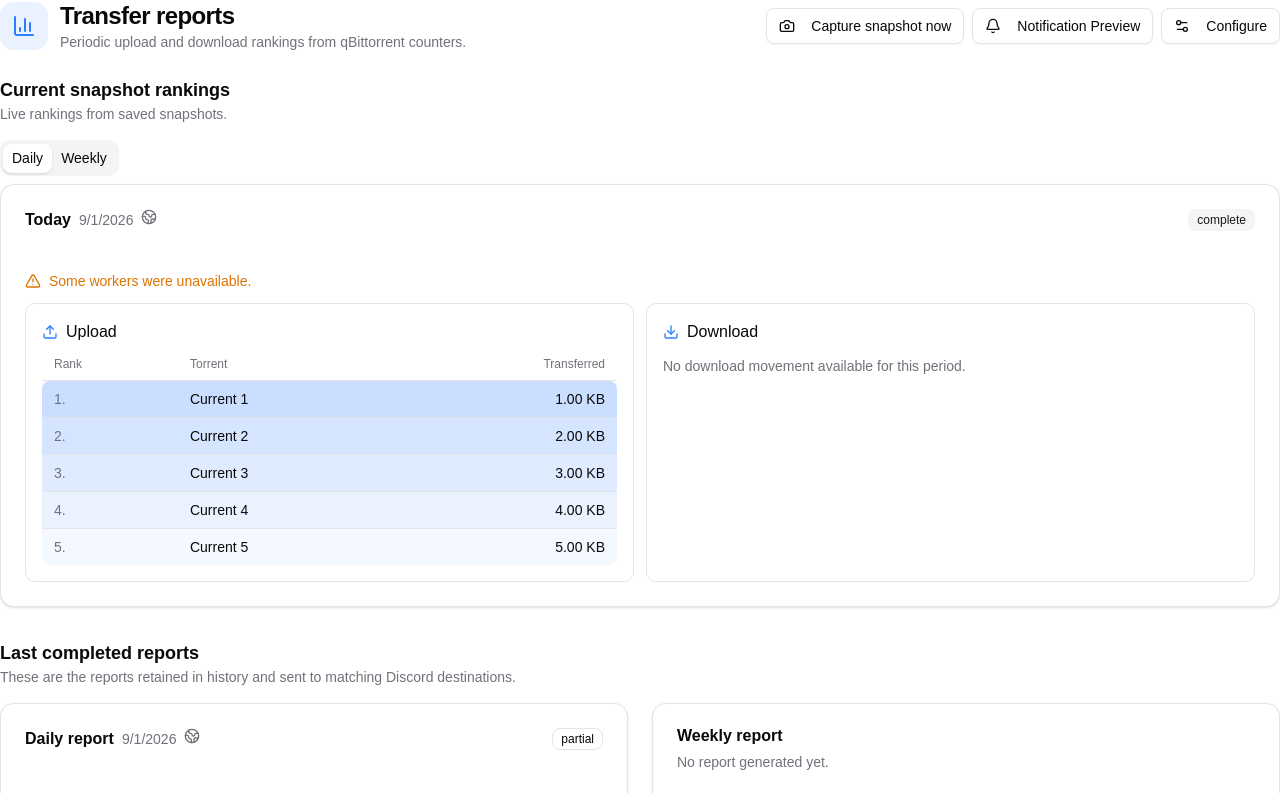
it: ReportsPage › uses the server language used by Discord for the preview
Click the button "Notification Preview" at (1063,26), box [972,8,1153,44]
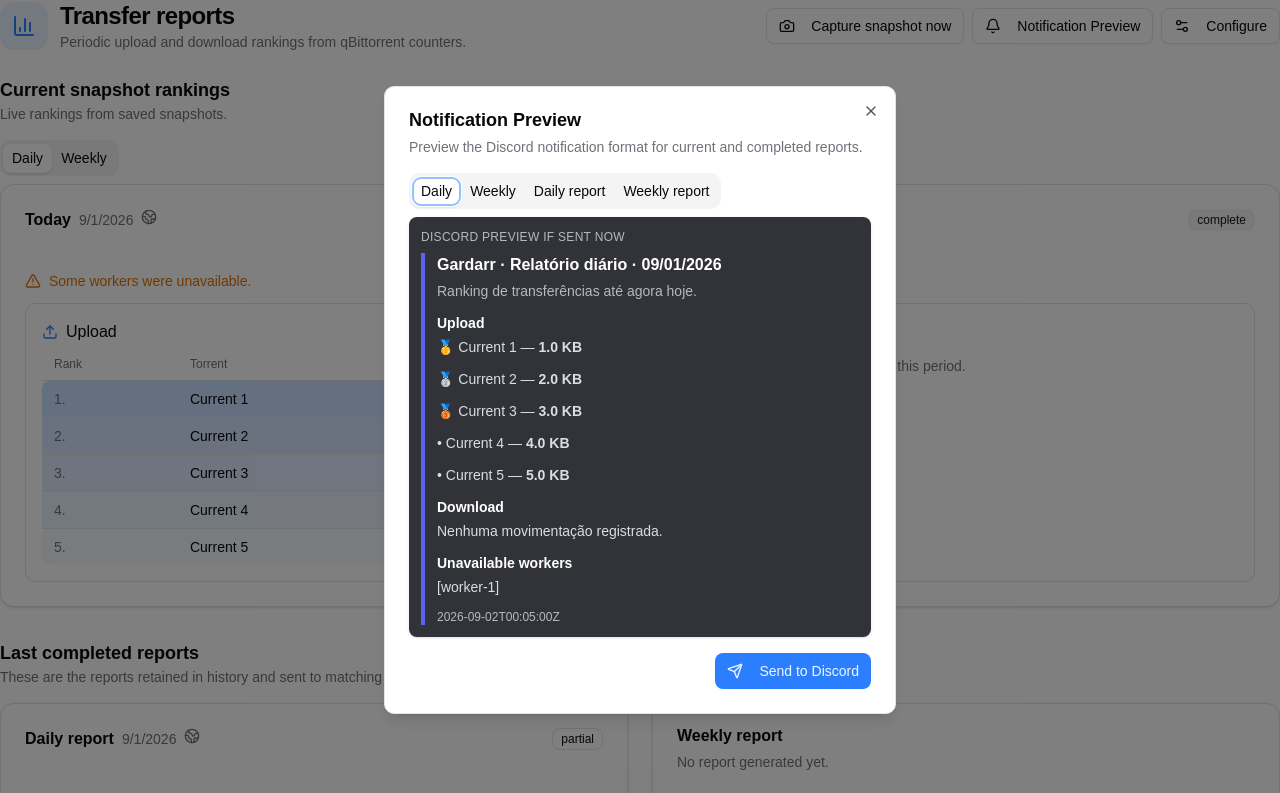
Click the tab "Daily report" at (570,191), box [525,176,614,206]
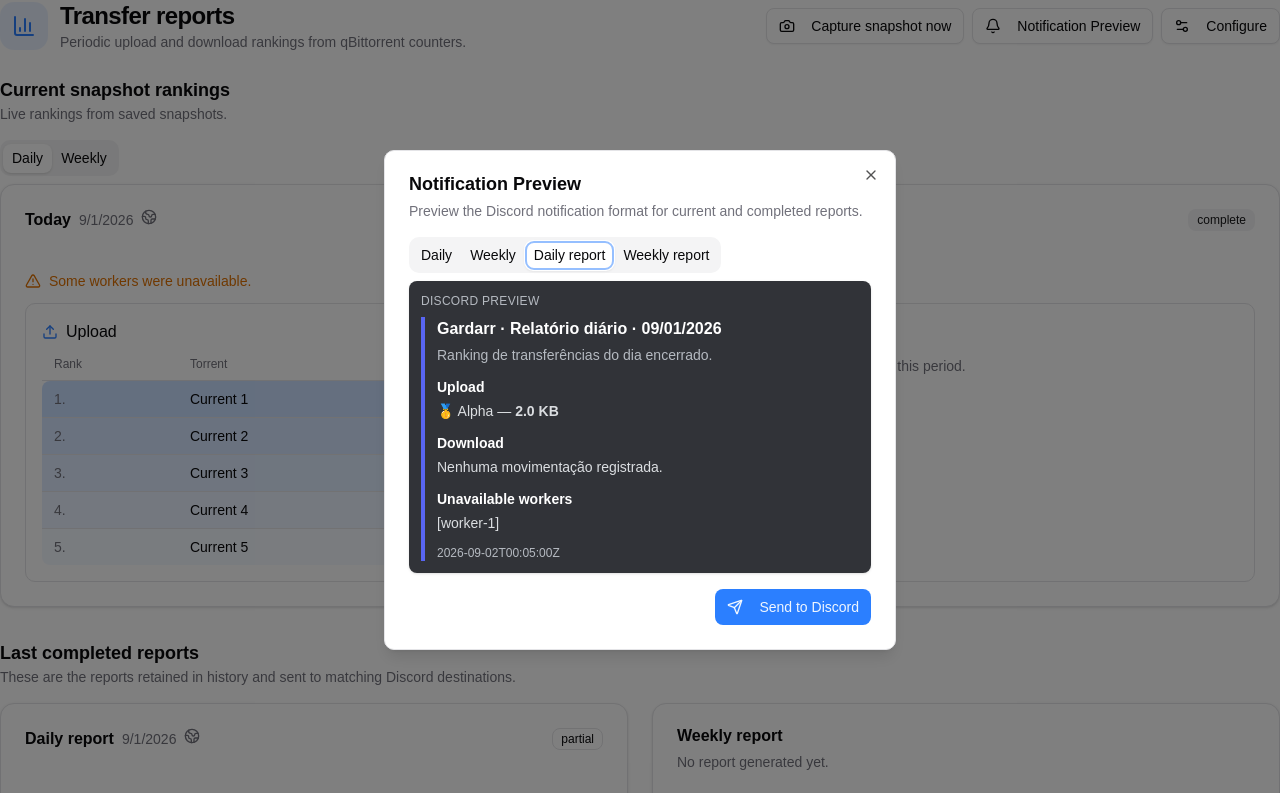
Check: the element with test id "discord-preview-daily" shows "Gardarr · Relatório diário · 09/01/2026", box [437,320,722,337]
